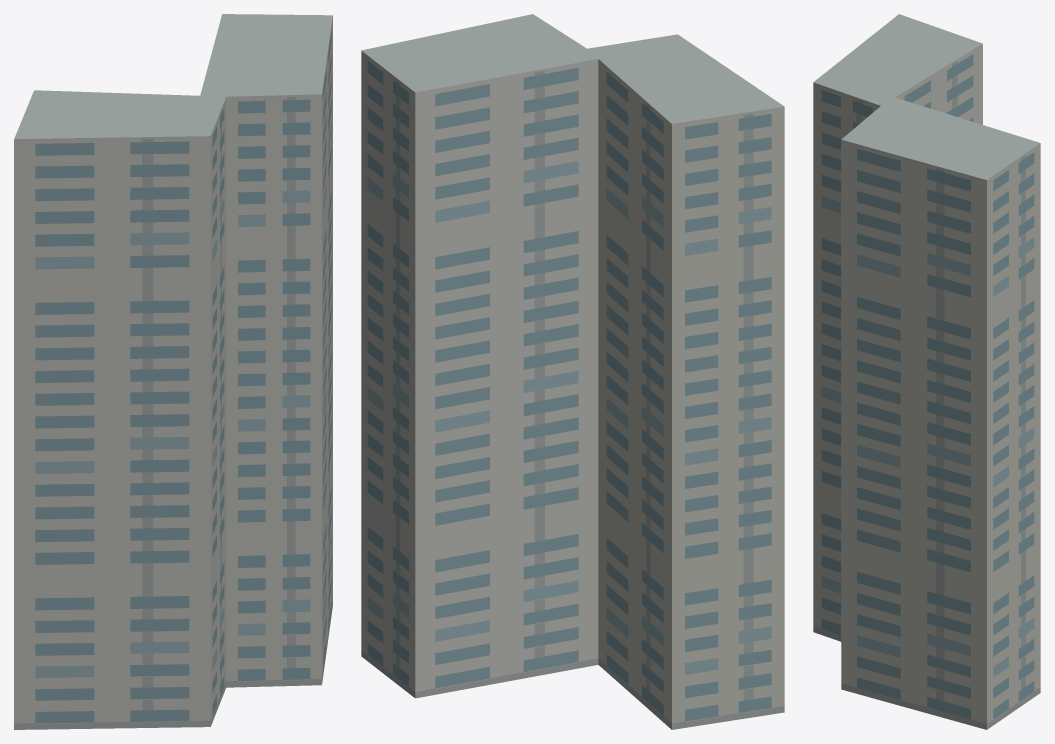
Rendered from residential-4e5941ee-bf58-4784-8695-1423c29aa402.glb.
3 views of the same model, side by side, from view 1: azimuth 30°, elevation 25°; view 2: azimuth 150°, elevation 25°; view 3: azimuth 270°, elevation 25° (orthographic). The views are drawn at different scales.
Parts seen in each view (by area): view 1: residential-4e5941ee-bf58-4784-8695-1423c29aa402.tmp; view 2: residential-4e5941ee-bf58-4784-8695-1423c29aa402.tmp; view 3: residential-4e5941ee-bf58-4784-8695-1423c29aa402.tmp.
Boxes of the visible parts, x1,y1,x2,y2 form: residential-4e5941ee-bf58-4784-8695-1423c29aa402.tmp: [14, 14, 332, 729]; residential-4e5941ee-bf58-4784-8695-1423c29aa402.tmp: [361, 14, 784, 729]; residential-4e5941ee-bf58-4784-8695-1423c29aa402.tmp: [813, 14, 1040, 729].
Size of the model in its own units: 46.66 by 72 by 27.01.
